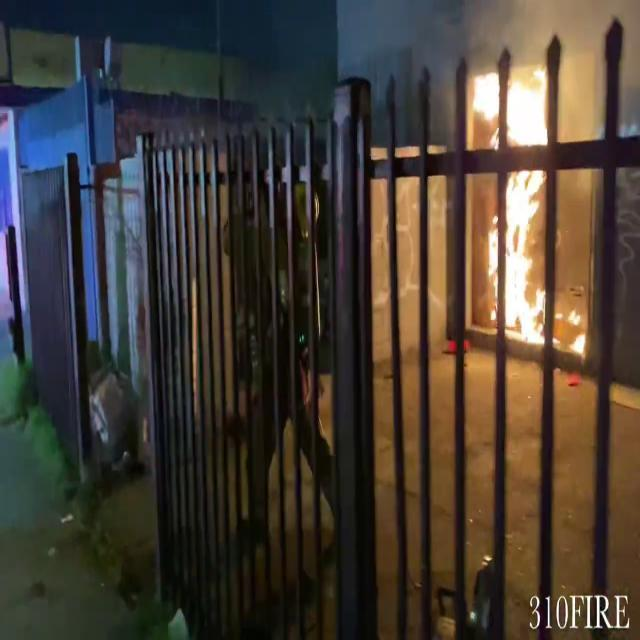Fire: (473, 55, 555, 348)
